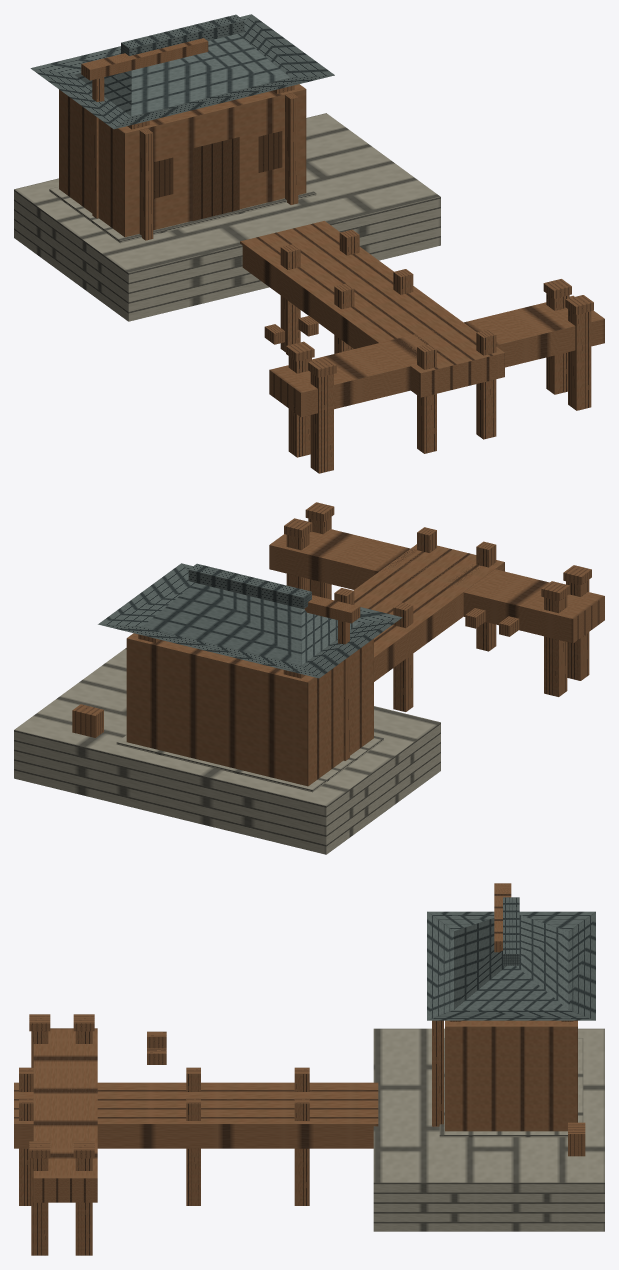
File: port-lod1.glb
3 views of the same model, one above another, from view 1: azimuth 30°, elevation 25°; view 2: azimuth 150°, elevation 25°; view 3: azimuth 270°, elevation 25° (orthographic).
Bounding box in the file's own units: 0.74 × 0.551 × 1.2.
1 material, 1 textured.
